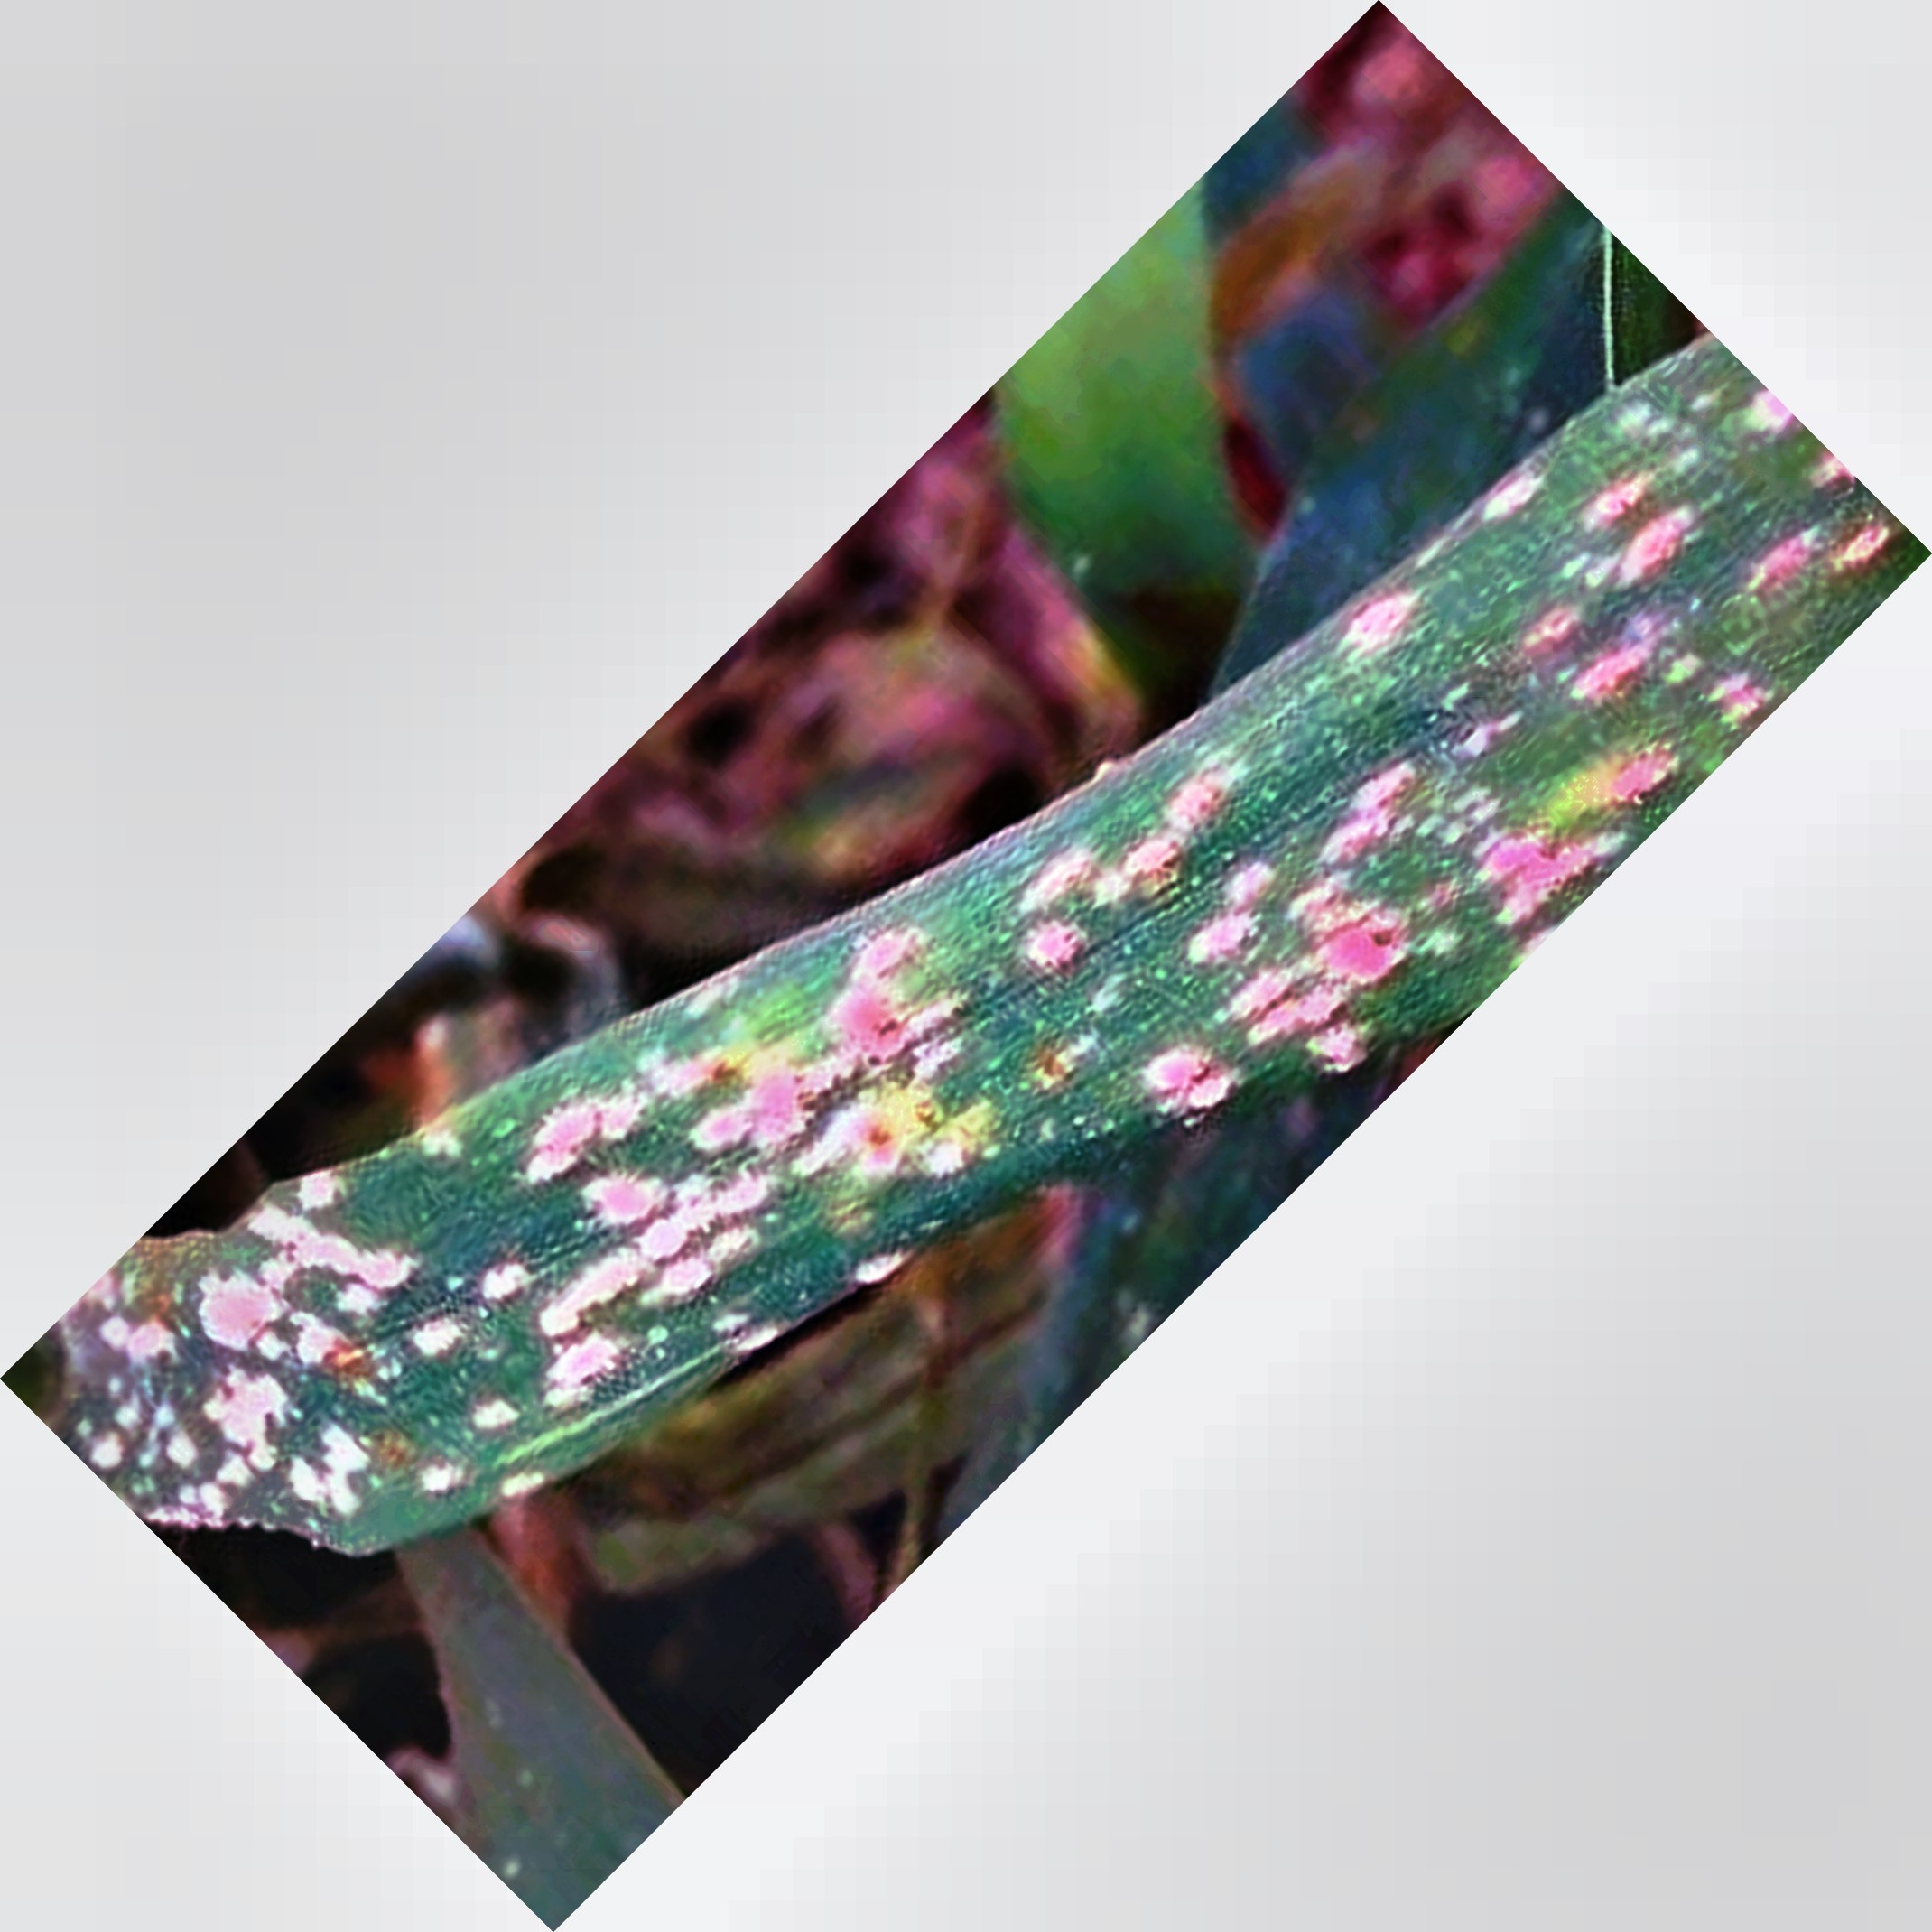Powdery Mildew: (425, 464, 1741, 1444)
